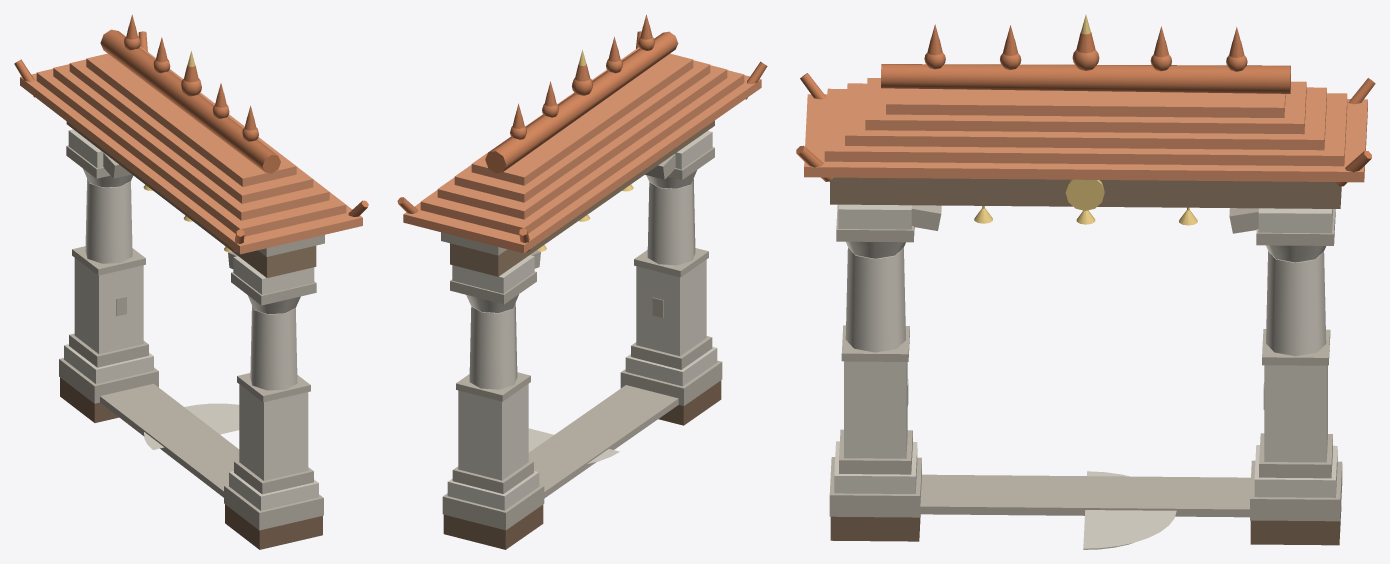
The model's file is south_indian_village_entrance_gate.glb.
3 views of the same model, side by side, from view 1: azimuth 30°, elevation 25°; view 2: azimuth 150°, elevation 25°; view 3: azimuth 270°, elevation 25° (orthographic). The views are drawn at different scales.
Parts seen in each view (by area): view 1: Terracotta_Canopy_Roof, Pillar_Left, Pillar_Right, Granite_Threshold_Plinth, Modular_Village_Entrance_Gate, Carved_Timber_Lintel, Ridge_Finial_3; view 2: Terracotta_Canopy_Roof, Pillar_Right, Pillar_Left, Granite_Threshold_Plinth, Carved_Timber_Lintel, Modular_Village_Entrance_Gate, Ridge_Finial_3; view 3: Terracotta_Canopy_Roof, Pillar_Right, Pillar_Left, Granite_Threshold_Plinth, Carved_Timber_Lintel, Modular_Village_Entrance_Gate, Ridge_Finial_3.
Part boxes in pixels (x1,y1,x2,y2): Terracotta_Canopy_Roof: (14, 29, 368, 254); Pillar_Left: (224, 251, 323, 530); Pillar_Right: (59, 129, 158, 403); Granite_Threshold_Plinth: (100, 383, 239, 497); Modular_Village_Entrance_Gate: (60, 377, 322, 549); Carved_Timber_Lintel: (66, 121, 324, 277); Ridge_Finial_3: (181, 50, 201, 96); Terracotta_Canopy_Roof: (397, 31, 767, 253); Pillar_Right: (442, 250, 544, 530); Pillar_Left: (620, 131, 722, 405); Granite_Threshold_Plinth: (528, 385, 678, 498); Carved_Timber_Lintel: (441, 120, 714, 276); Modular_Village_Entrance_Gate: (443, 380, 721, 549); Ridge_Finial_3: (572, 49, 592, 95); Terracotta_Canopy_Roof: (796, 64, 1375, 186); Pillar_Right: (1229, 208, 1342, 521); Pillar_Left: (829, 204, 941, 517); Granite_Threshold_Plinth: (920, 471, 1250, 549); Carved_Timber_Lintel: (830, 177, 1341, 210); Modular_Village_Entrance_Gate: (830, 506, 1341, 545); Ridge_Finial_3: (1072, 15, 1099, 70).
Bounding box in the file's own units: 2.11 × 5.23 × 5.37.
